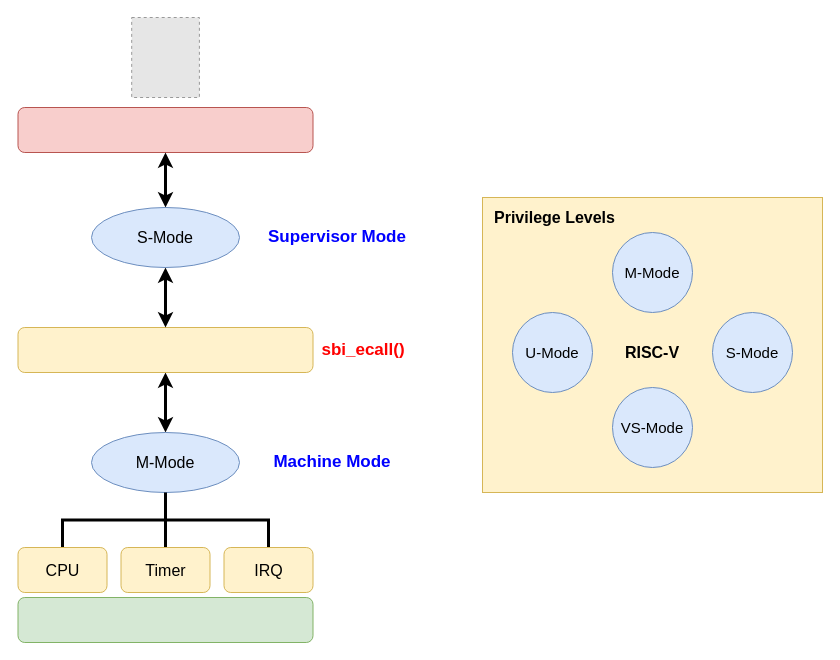
Some shapes in this 840 by 660 pixel diagram are drawn without their labels. Grey dashed boxes stand in for pictures. The shapes that lost their labels are listed below. From the top down, each one's centre as x and y in pixels, then its label:
pixel 165 129: Linux / OS
pixel 165 349: SBI Interface
pixel 165 619: Allwinner F133
